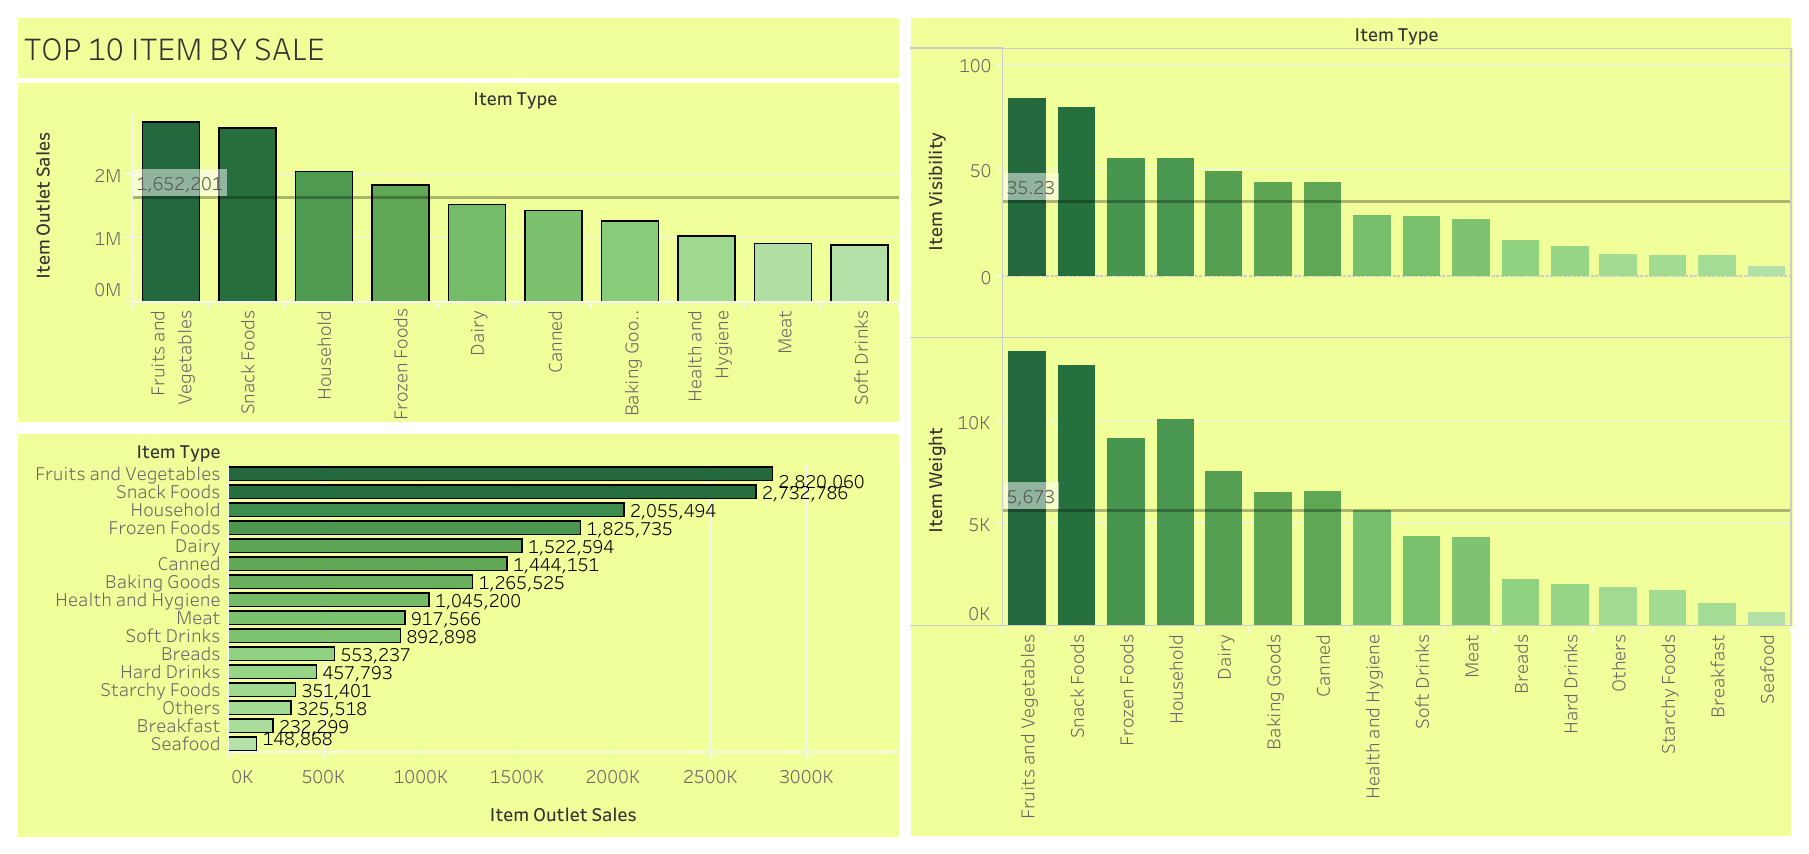

This screenshot's page, from the dashboard's own definition file:
{"tool":"tableau","page":{"name":"Dashboard 3","canvas":[1000,1000],"units":"permille","ordinal":2},"visuals":[{"type":"worksheet","title":"Sheet 12","mark":"Automatic","rows":["Item_Outlet_Sales"],"cols":["Outlet_Size","Outlet_Type"],"box":[5,8.6,495,982.7]},{"type":"worksheet","title":"Sheet 7","mark":"Automatic","rows":["Item_Type"],"cols":["Item_MRP"],"box":[500,8.6,495,982.7]}]}

Visuals, with their boxes on the dashboard's canvas, which has no fixed pixel size, in thousandths of its width and height (x1, y1, x2, y2). These are canvas units, not pixel positions in the 1809x854 screenshot, which may show the page scaled, cropped or inside an application window:
"Sheet 12" worksheet: 5/9/500/991
"Sheet 7" worksheet: 500/9/995/991
